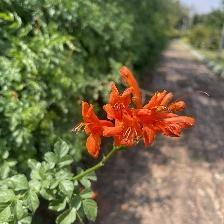honeysuckle: (71, 91, 117, 158)
